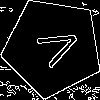V: (27, 22, 83, 73)
